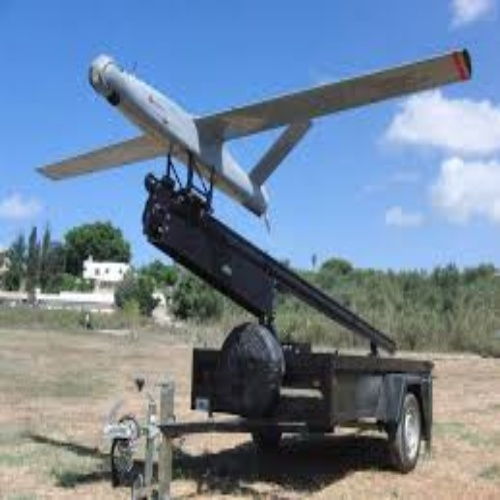uav: (32, 48, 475, 216)
